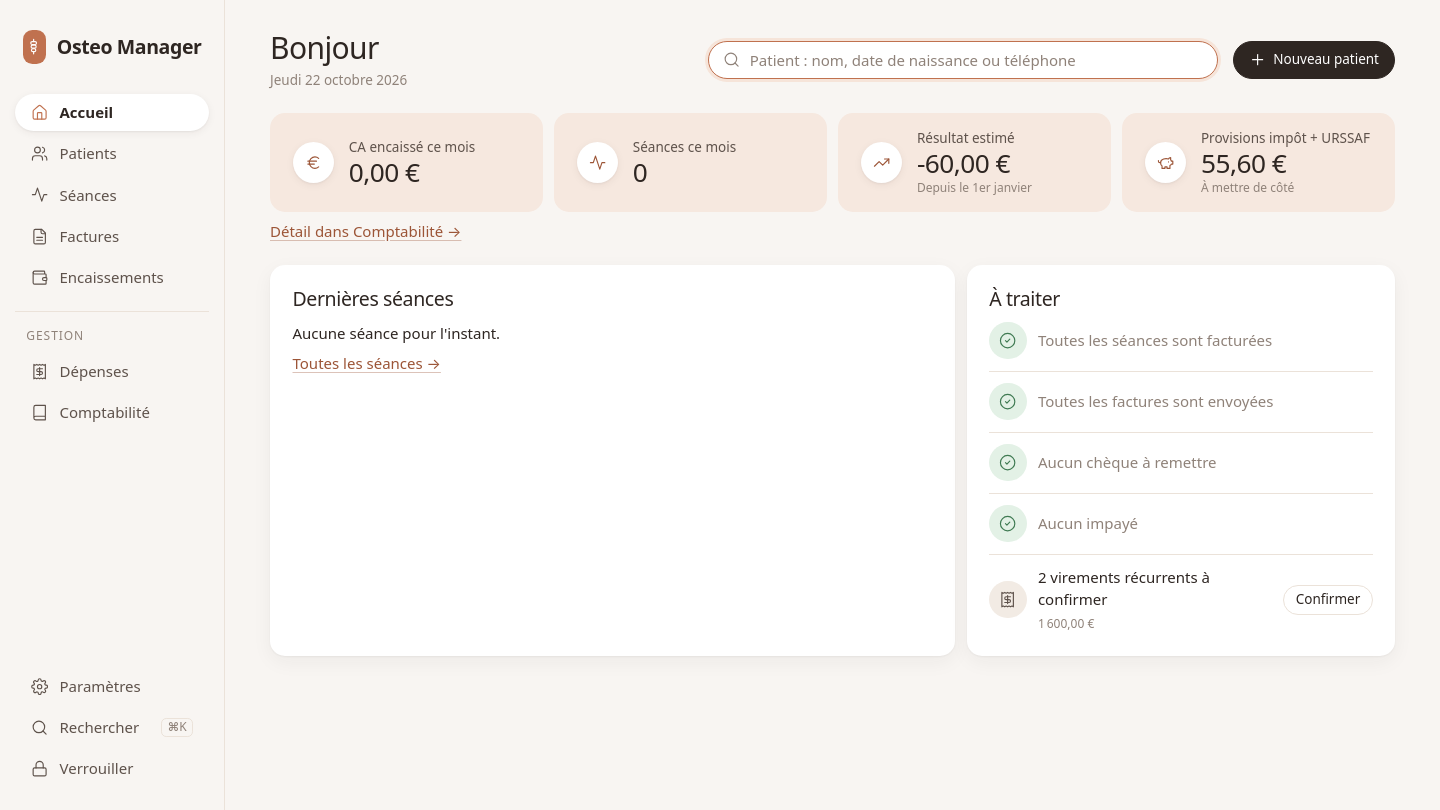
Test: les virements récurrents échus mènent aux dépenses
Click the button with aria-label "Confirmer : 2 virements récurrents à confirmer".
click(1328, 600)  # box [1283, 585, 1372, 615]
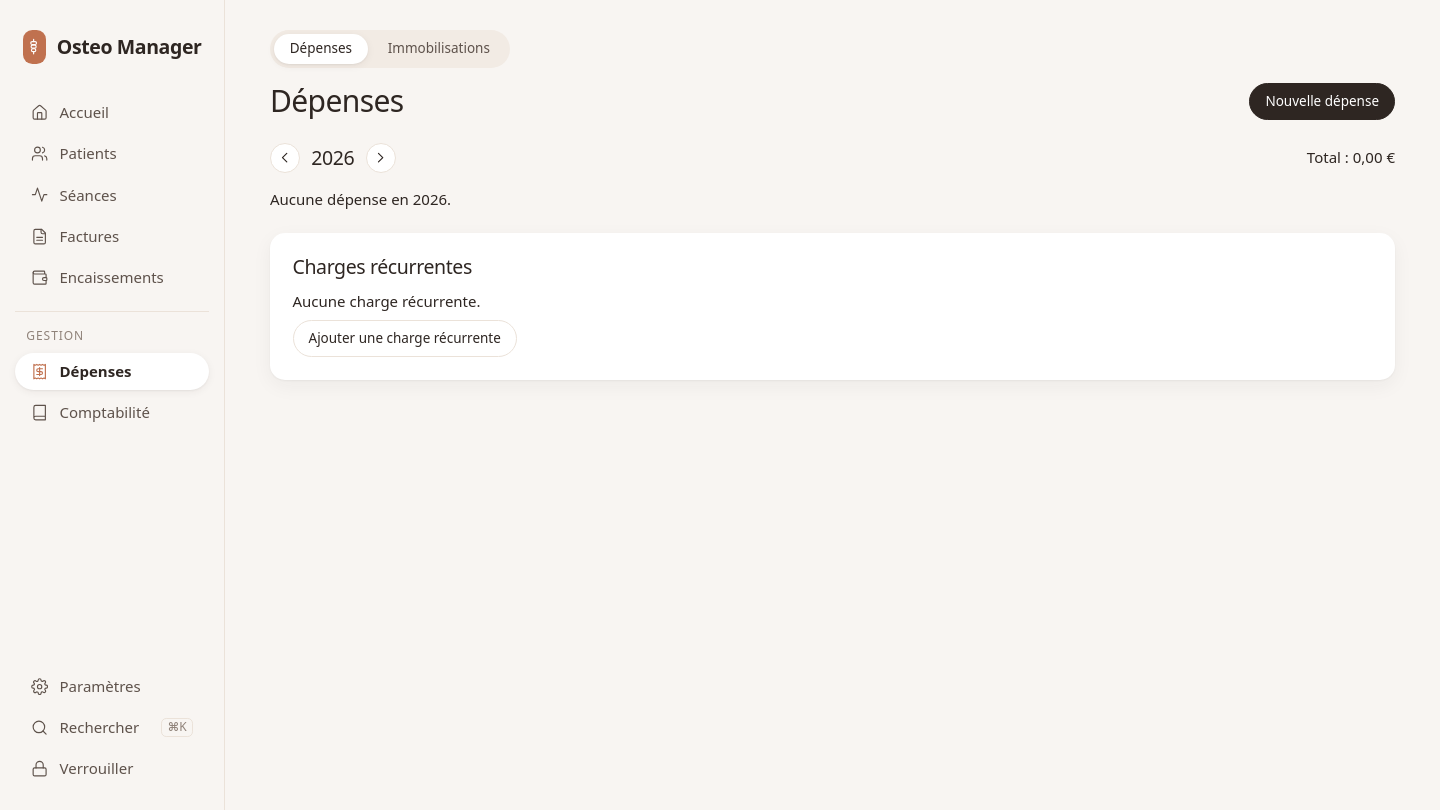
Now the heading "Dépenses" is shown, box [270, 83, 404, 119]
